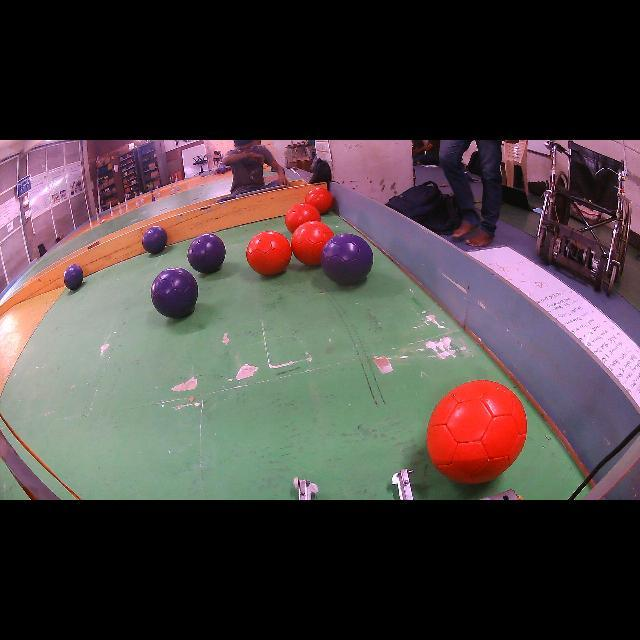P: (320, 234, 372, 285), (151, 268, 198, 319), (188, 234, 225, 272), (142, 226, 168, 254), (64, 264, 84, 290)
R: (428, 380, 528, 484), (246, 231, 291, 275), (291, 221, 334, 265), (285, 204, 321, 232), (305, 188, 332, 215)
